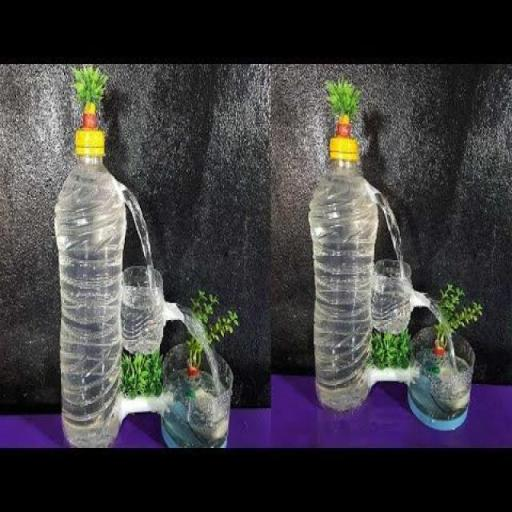plastic: (53, 124, 128, 449), (308, 136, 380, 412)
